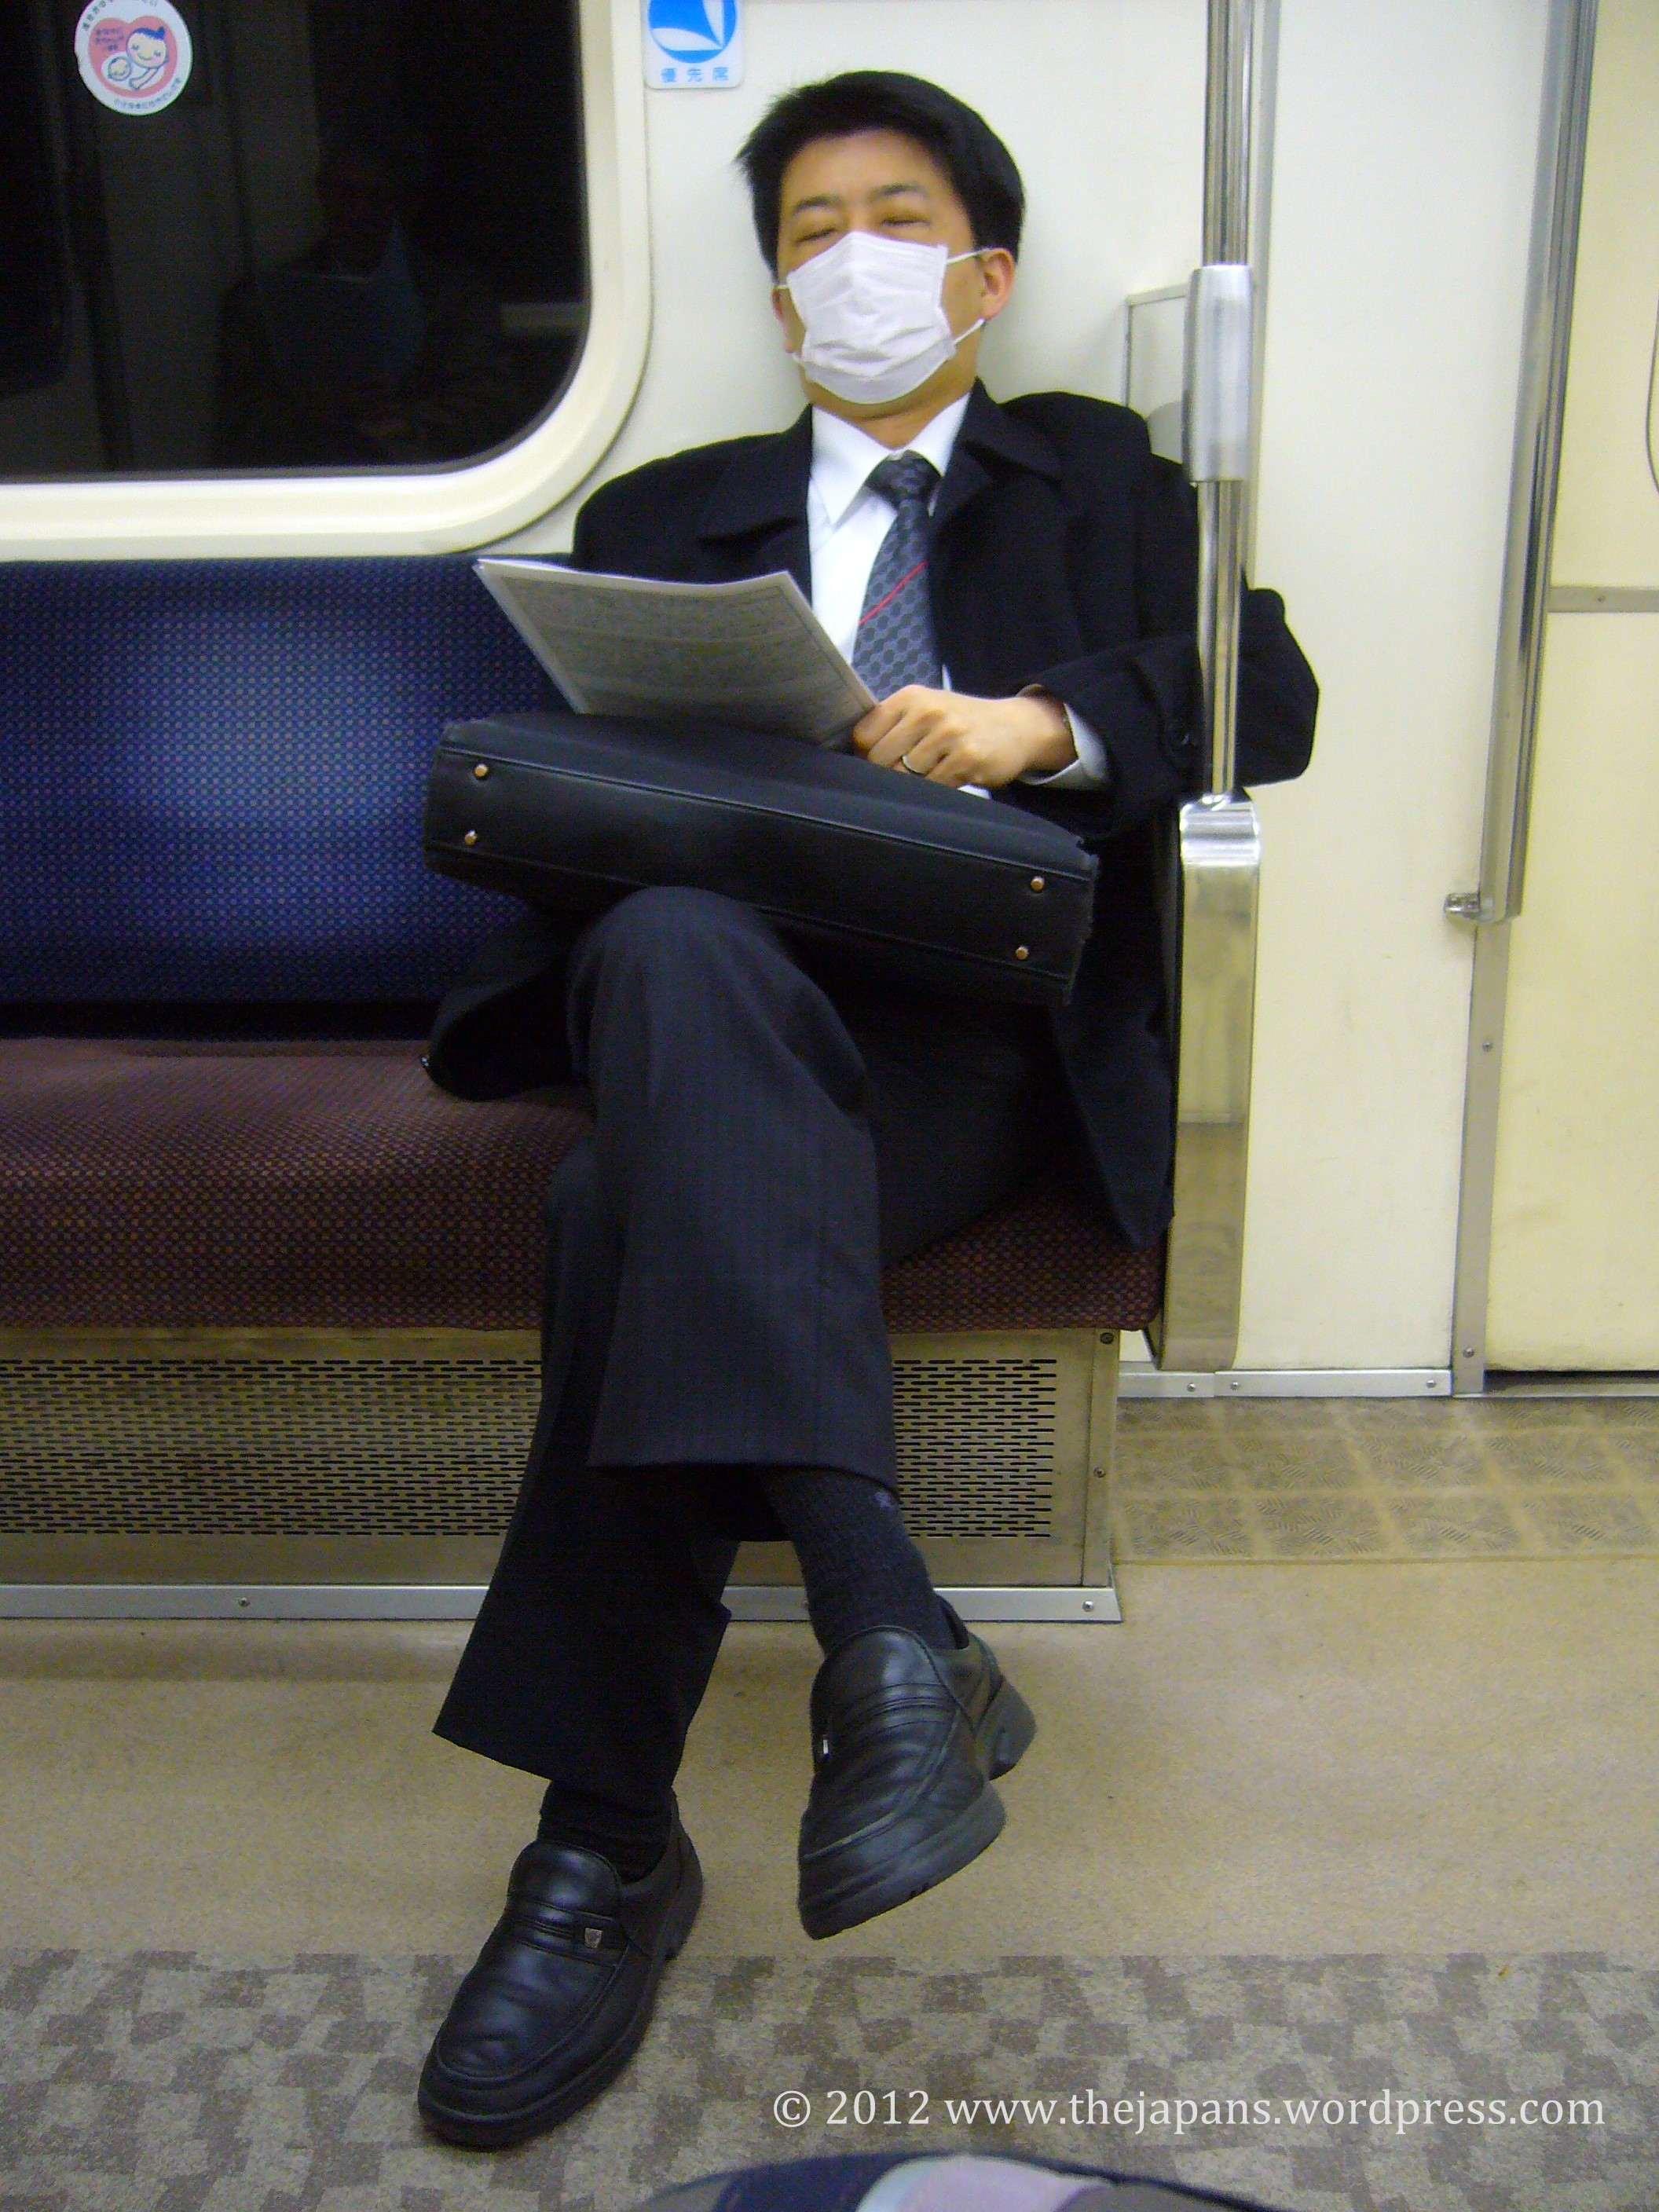face_with_mask: (739, 103, 1024, 456)
